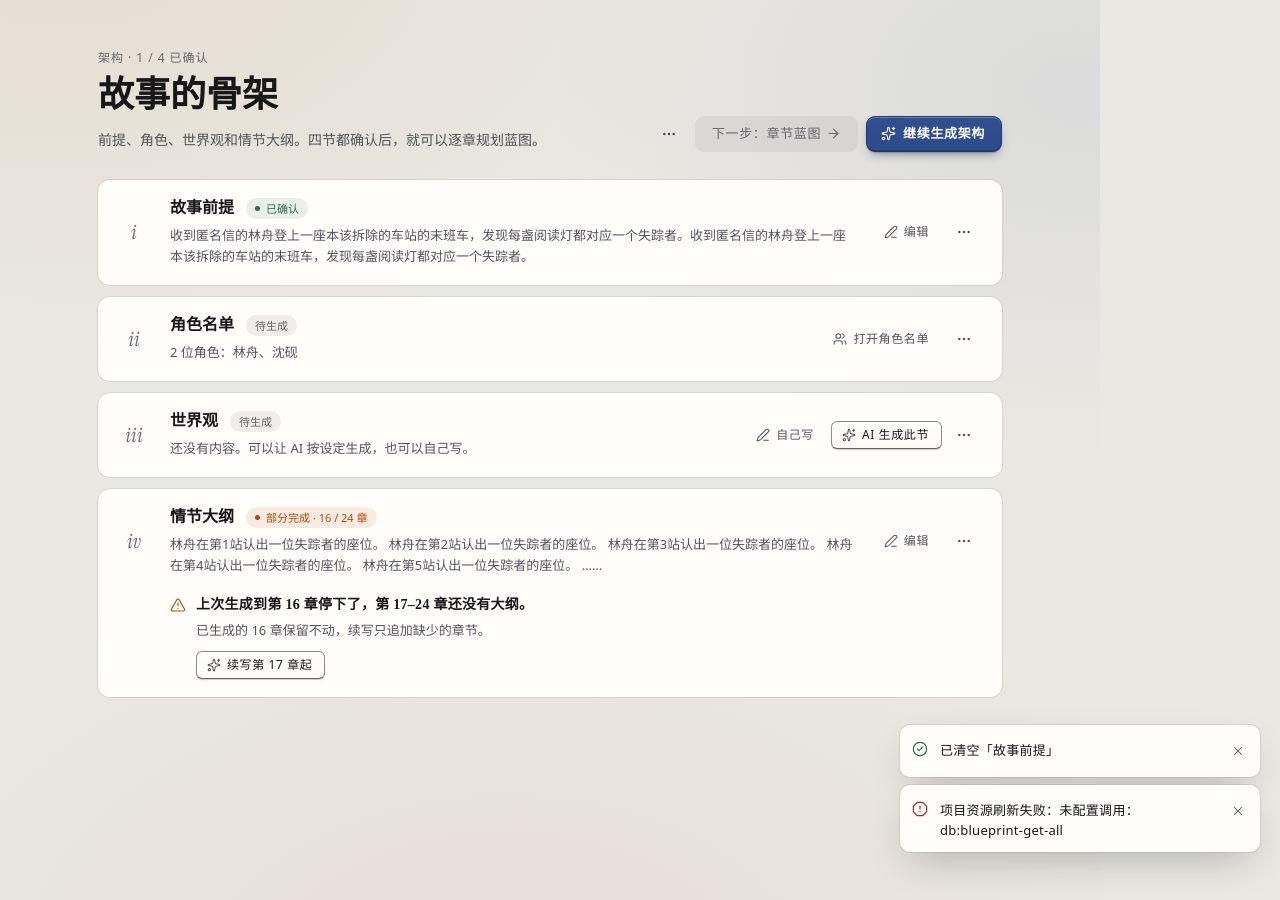
Test case: 架构阶段 › 大纲分批停在第 16 章：提示条说明缺的章，续写只从第 17 章起追加
Expected: the text with class "arch-badge" reads "部分完成 · 16 / 24 章", x1=266 y1=510 x2=368 y2=525
Expected: the element that starts with "情节大纲" shows "第 17–24 章还没有大纲", x1=196 y1=597 x2=533 y2=612
Click the button "续写第 17 章起".
click(261, 665)  # box x1=196 y1=651 x2=325 y2=679
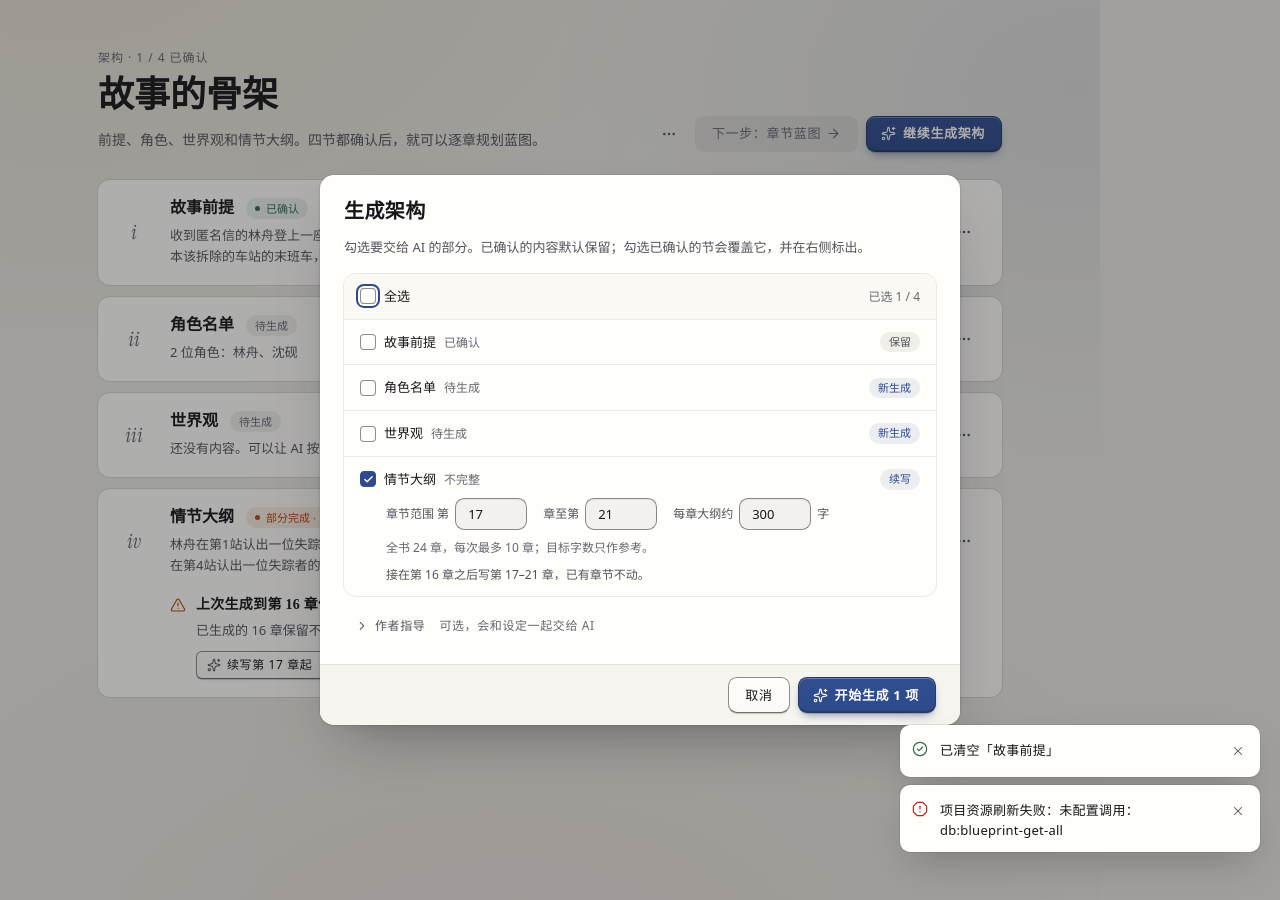
Now the number field named "本次生成范围的起始章" holds "17", box x1=455 y1=498 x2=527 y2=530
